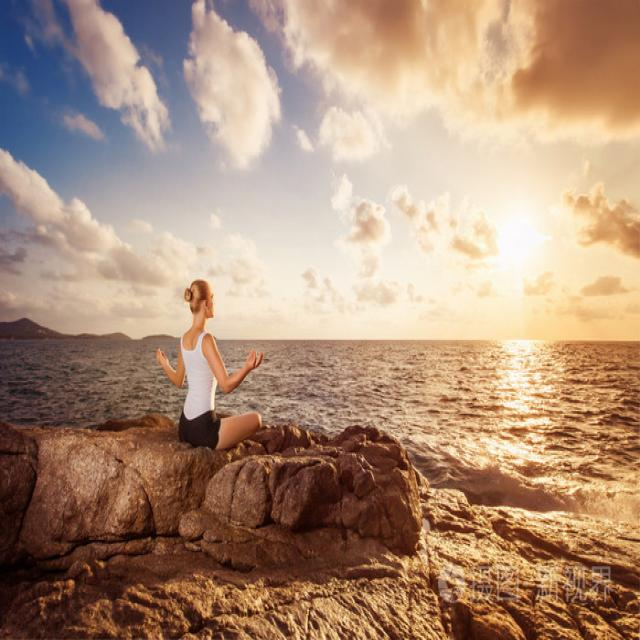reef: (307, 440, 479, 561)
